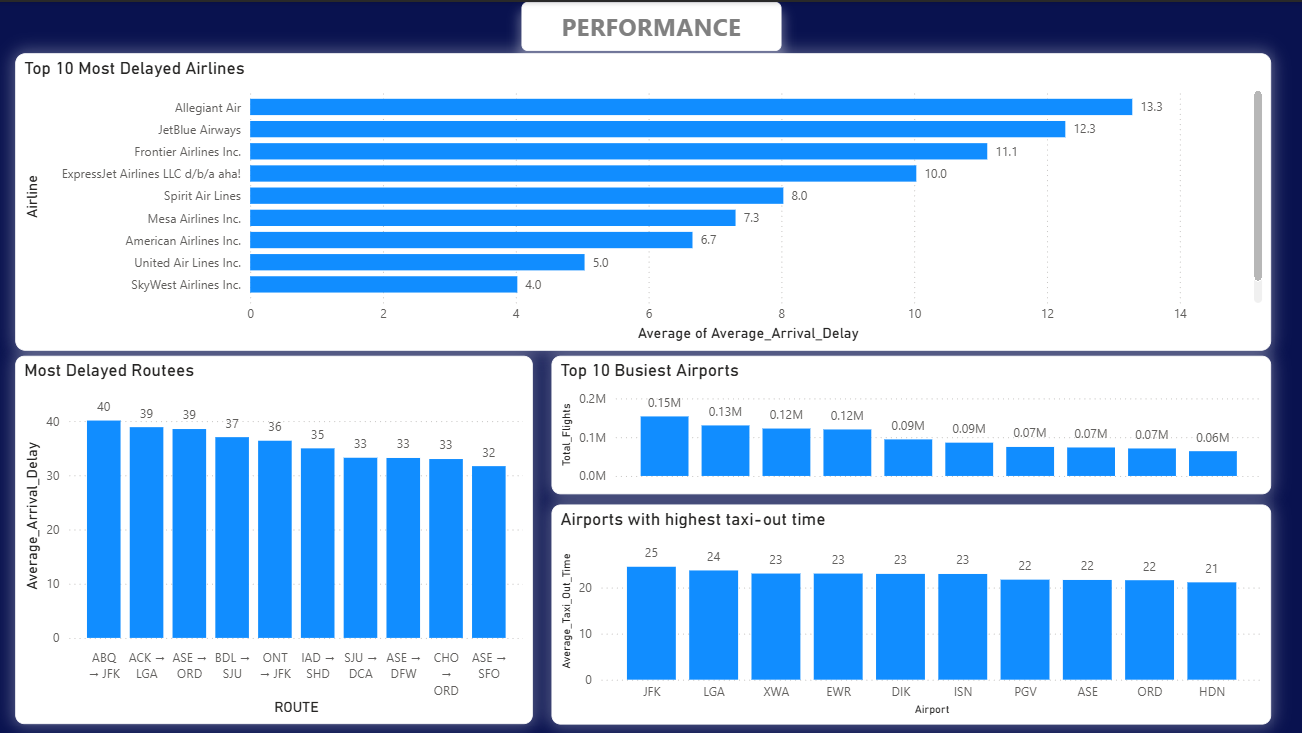

This screenshot's page, from the dashboard's own definition file:
{"tool":"powerbi","page":{"name":"Airline & Airport Performance","canvas":[1280,720],"ordinal":1},"visuals":[{"type":"clusteredBarChart","title":"Top 10 Most Delayed Airlines","fields":{"Category":["top_delayed_airlines.Airline"],"Y":["Avg(top_delayed_airlines.Average_Arrival_Delay)"]},"box":[16,50.3,1233.1,292],"z":0},{"type":"clusteredColumnChart","title":"Top 10 Busiest Airports","fields":{"Category":["busiest_airports.Airport"],"Y":["Max(busiest_airports.Total_Flights)"]},"box":[542.3,347.2,706.8,136.2],"z":1000},{"type":"clusteredColumnChart","title":"Most Delayed Routees","fields":{"Category":["top_delayed_routes.ROUTE"],"Y":["Avg(top_delayed_routes.Average_Arrival_Delay)"]},"box":[16,347.2,508,362],"z":2000},{"type":"clusteredColumnChart","title":"Airports with highest taxi-out time","fields":{"Category":["taxi_out_congestion.Airport"],"Y":["Avg(taxi_out_congestion.Average_Taxi_Out_Time)"]},"box":[542.3,493.3,706.8,216],"z":3000},{"type":"textbox","box":[512.9,0,255.2,47.9],"z":4000}]}

Visuals, with their boxes in screenshot pixels (x1, y1, x2, y2), scaled from the page's 1280x720 canvas onto the 1302x733 screenshot:
"Top 10 Most Delayed Airlines" clusteredBarChart: pyautogui.locateOnScreen(16, 51, 1271, 348)
"Top 10 Busiest Airports" clusteredColumnChart: pyautogui.locateOnScreen(552, 353, 1271, 492)
"Most Delayed Routees" clusteredColumnChart: pyautogui.locateOnScreen(16, 353, 533, 722)
"Airports with highest taxi-out time" clusteredColumnChart: pyautogui.locateOnScreen(552, 502, 1271, 722)
textbox: pyautogui.locateOnScreen(522, 0, 781, 49)
